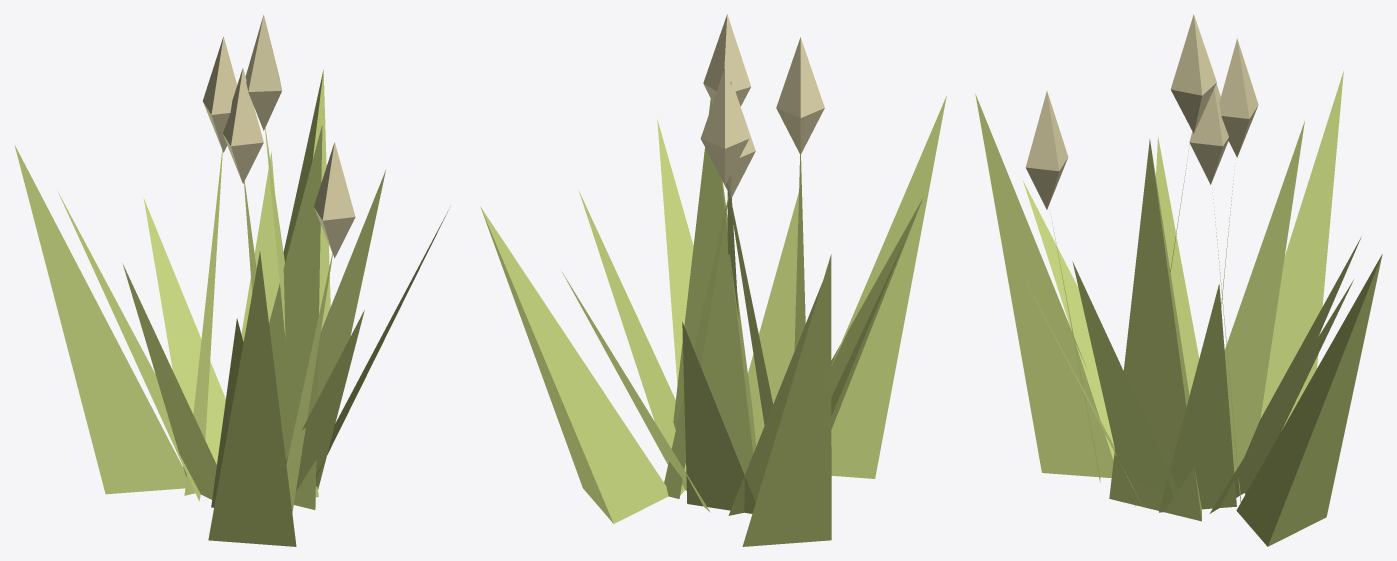
File: longgrass.glb
3 renders of one model, left to right at view 1: azimuth 30°, elevation 25°; view 2: azimuth 150°, elevation 25°; view 3: azimuth 270°, elevation 25°, orthographic. The views are drawn at different scales.
Parts seen in each view (by area): view 1: crop; view 2: crop; view 3: crop.
Part boxes in pixels (x1,y1,x2,y2): crop: (14, 14, 448, 546); crop: (480, 14, 946, 546); crop: (975, 14, 1382, 546).
Bounding box in the file's own units: 0.44 × 0.6 × 0.462.
